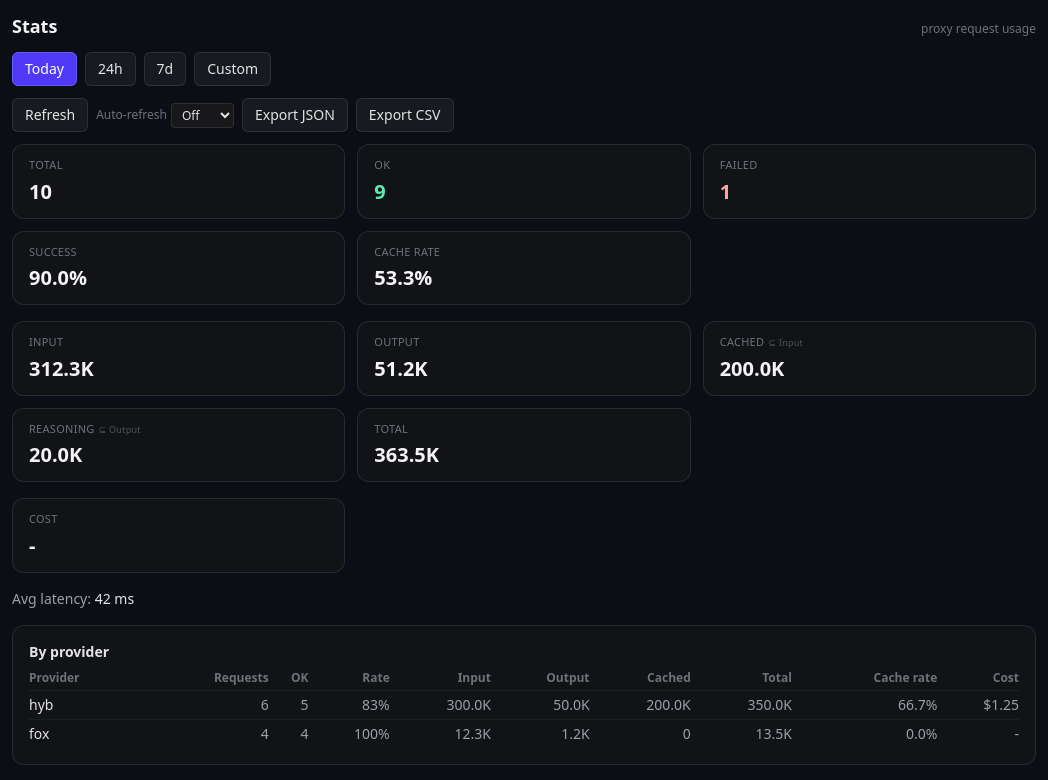
Test: StatsPanel › reveals the custom date inputs only in custom mode
The width and height of the screenshot is (1048, 780).
Expected: the text "363.5K" is shown, [374,441,439,468]
Click the button "Custom" at (233, 69), box [194,52,271,86]
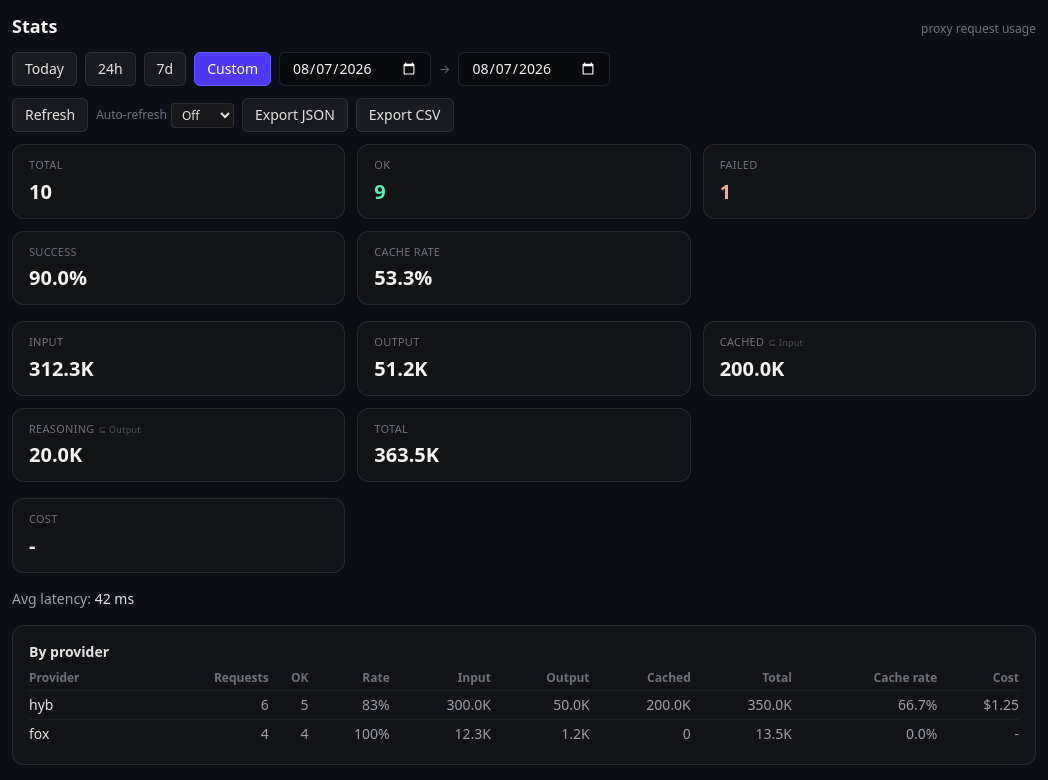
Result: the date field named "From" is shown at [279,52,431,86]
Result: the date field named "To" is shown at [458,52,610,86]
Click the button "Today" at (44, 69), box [12,52,77,86]
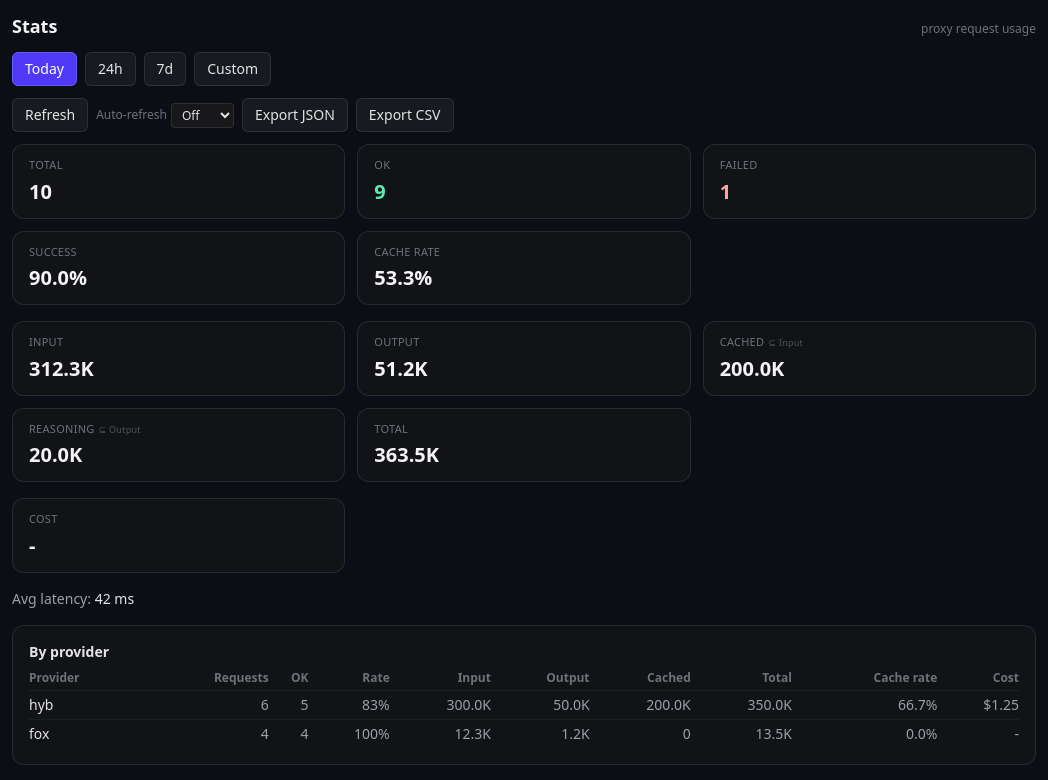
Result: the date field labelled "From" is gone
